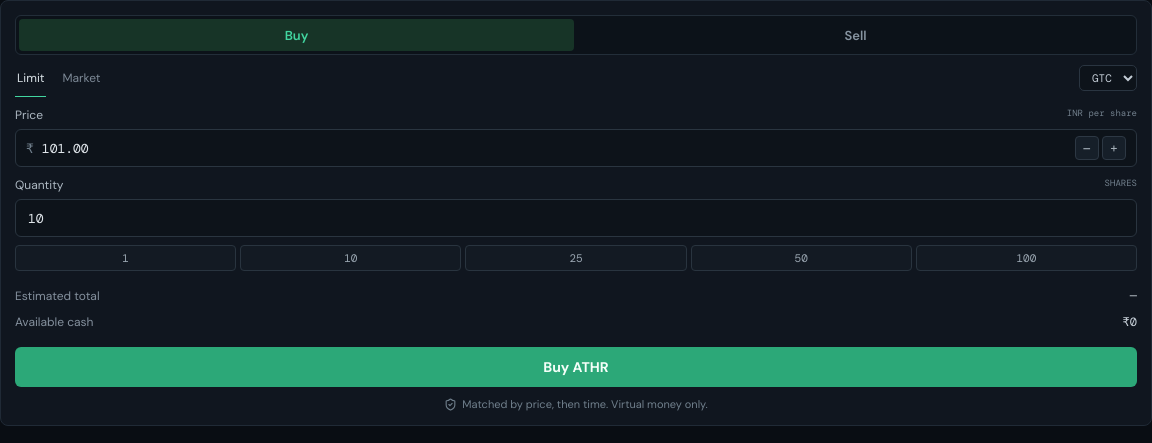
Test case: OrderForm › steps the price by one tick
Click the button named "Raise price by one tick".
click(1114, 148)  # box [1102,136,1126,160]
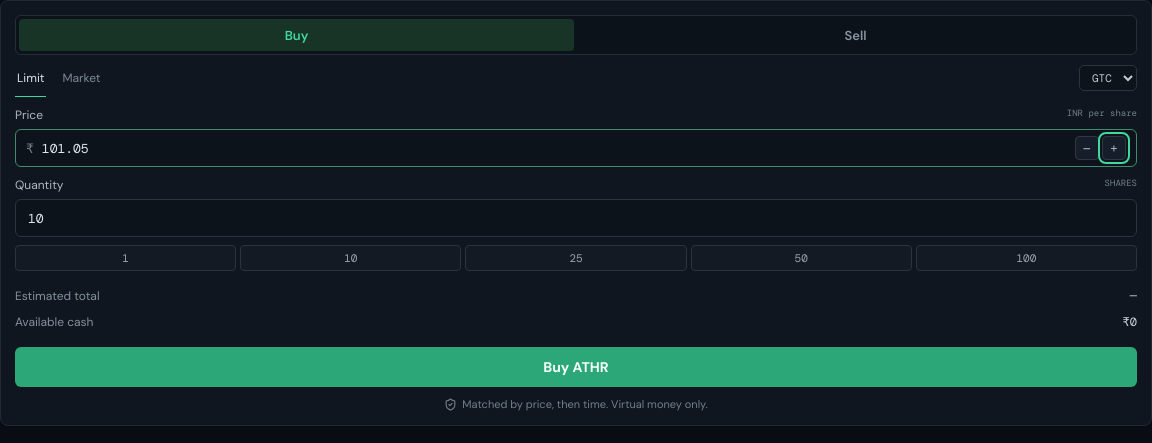
Check: the field named "Limit price" holds "101.05", box [40,138,1069,158]
Click the button named "Lower price by one tick".
click(1087, 148)  # box [1075,136,1099,160]
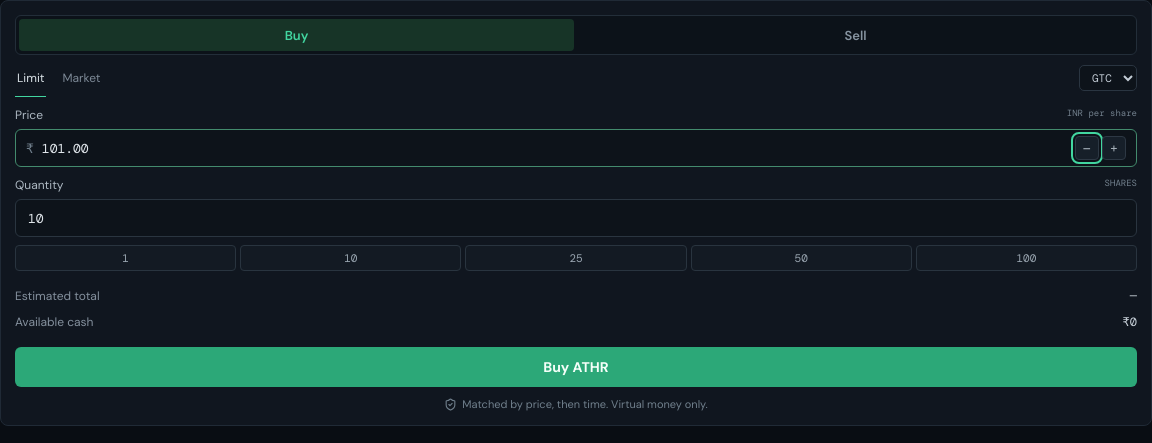
Click the button named "Lower price by one tick".
click(1087, 148)  # box [1075,136,1099,160]
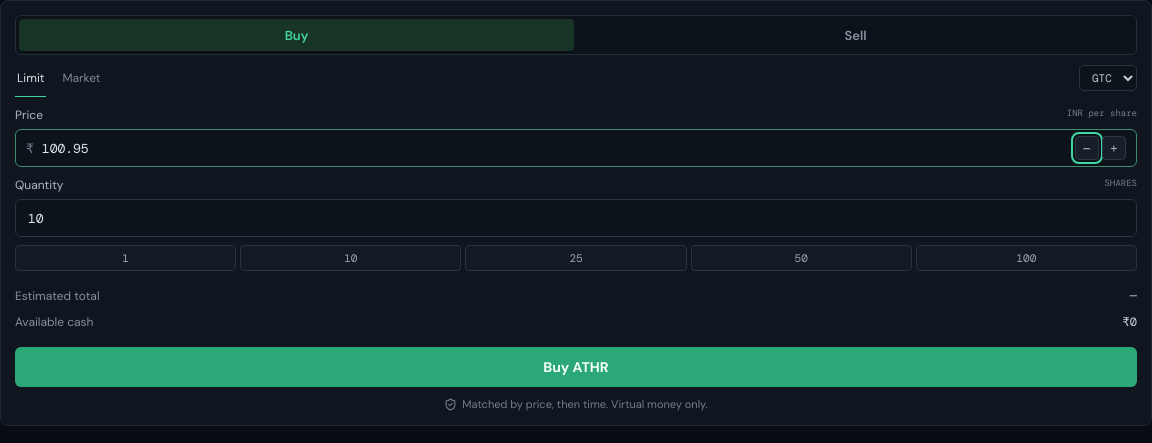
Check: the field named "Limit price" holds "100.95", box [40,138,1069,158]
